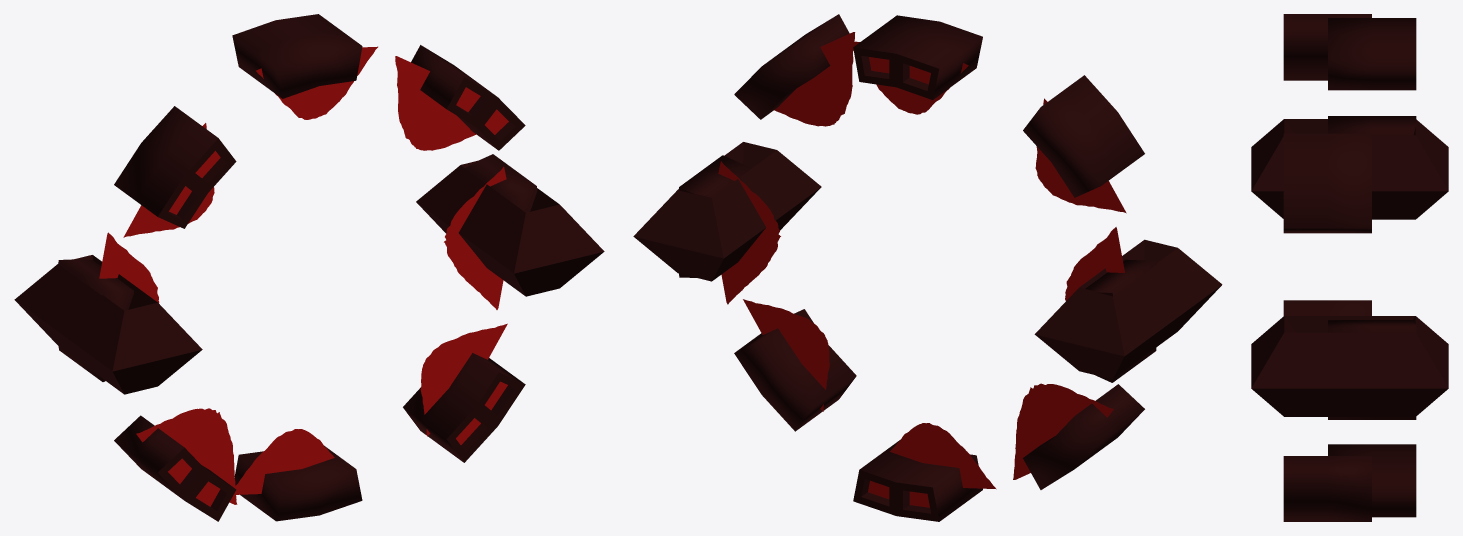
Rendered from Trapring.fbx.
The picture shows the model from 3 angles, left to right: view 1: azimuth 30°, elevation 25°; view 2: azimuth 150°, elevation 25°; view 3: azimuth 270°, elevation 25°; orthographic projection.
Parts seen in each view (by area): view 1: OuterRing, Cap, Cap1, Glow, Glow1; view 2: OuterRing, Cap, Glow, Cap1, Glow1; view 3: OuterRing, Cap1, Cap.
Part boxes in pixels (x1=…): OuterRing: x1=58, y1=14, x2=537, y2=521; Cap: x1=14, y1=255, x2=202, y2=394; Cap1: x1=416, y1=160, x2=604, y2=296; Glow: x1=123, y1=56, x2=507, y2=504; Glow1: x1=99, y1=46, x2=506, y2=494; OuterRing: x1=678, y1=14, x2=1156, y2=521; Cap: x1=1034, y1=239, x2=1222, y2=378; Glow: x1=743, y1=32, x2=1126, y2=479; Cap1: x1=633, y1=142, x2=821, y2=281; Glow1: x1=718, y1=41, x2=1124, y2=489; OuterRing: x1=1283, y1=14, x2=1416, y2=521; Cap1: x1=1251, y1=316, x2=1448, y2=416; Cap: x1=1251, y1=119, x2=1448, y2=219.
Size of the model in its own units: 4.35 by 3.92 by 1.5.
